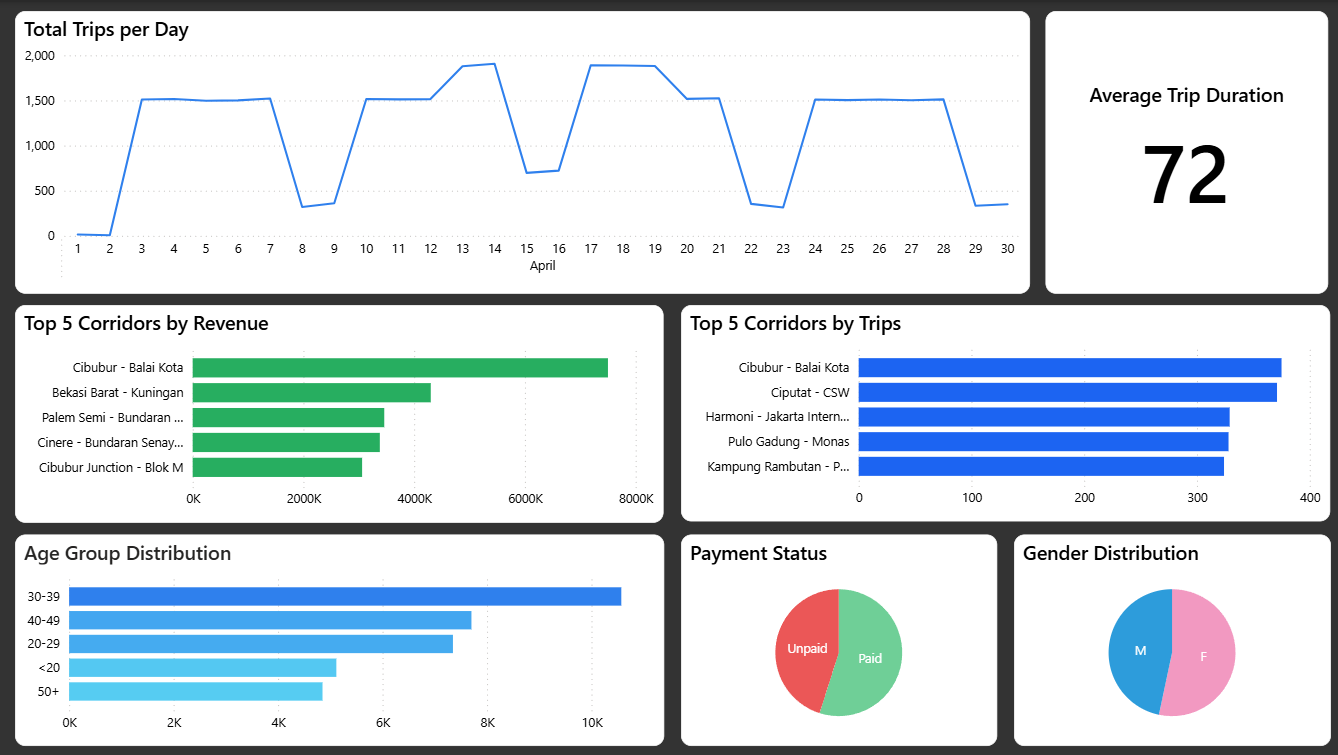

The page's visual inventory and layout, read from the dashboard file:
{"tool":"powerbi","page":{"name":"Page 1","canvas":[1280,720],"ordinal":0},"visuals":[{"type":"clusteredBarChart","title":"Top 5 Corridors by Trips","fields":{"Y":["CountNonNull(Dataset.transID)"],"Category":["Dataset.corridorName"]},"box":[650.6,289.5,619.7,206.6],"z":0},{"type":"clusteredBarChart","title":"Top 5 Corridors by Revenue","fields":{"Y":["Sum(Dataset.payAmount_clean)"],"Category":["Dataset.corridorName"]},"box":[14.3,289.3,619,207.7],"z":1000},{"type":"pieChart","title":"Payment Status","fields":{"Category":["Dataset.PaymentStatus"],"Y":["CountNonNull(Dataset.transID)"]},"box":[650.6,509.1,302,201.7],"z":2000},{"type":"pieChart","title":"Gender Distribution","fields":{"Category":["Dataset.payCardSex"],"Y":["CountNonNull(Dataset.transID)"]},"box":[967.8,509.1,302.5,201.7],"z":3000},{"type":"lineChart","title":"Total Trips per Day","fields":{"Y":["CountNonNull(Dataset.transID)"],"Category":["Dataset.tapInTime.Variation.Date Hierarchy.Month","Dataset.tapInTime.Variation.Date Hierarchy.Day"]},"box":[14.6,8.1,969.4,270],"z":4000},{"type":"clusteredBarChart","title":"Age Group Distribution","fields":{"Category":["Dataset.Age Group"],"Y":["CountNonNull(Dataset.transID)"]},"box":[14.6,509.1,619.7,201.7],"z":5000},{"type":"cardVisual","title":"Average Trips Duration","fields":{"Data":["Dataset.Average Trip Duration"]},"box":[998.7,8.1,270,270],"z":6000}]}

Visuals, with their boxes in screenshot pixels (x1, y1, x2, y2), scaled from the page's 1280x720 canvas onto the 1338x755 screenshot:
"Top 5 Corridors by Trips" clusteredBarChart: (left=680, top=304, right=1328, bottom=520)
"Top 5 Corridors by Revenue" clusteredBarChart: (left=15, top=303, right=662, bottom=521)
"Payment Status" pieChart: (left=680, top=534, right=996, bottom=745)
"Gender Distribution" pieChart: (left=1012, top=534, right=1328, bottom=745)
"Total Trips per Day" lineChart: (left=15, top=8, right=1029, bottom=292)
"Age Group Distribution" clusteredBarChart: (left=15, top=534, right=663, bottom=745)
"Average Trips Duration" cardVisual: (left=1044, top=8, right=1326, bottom=292)
